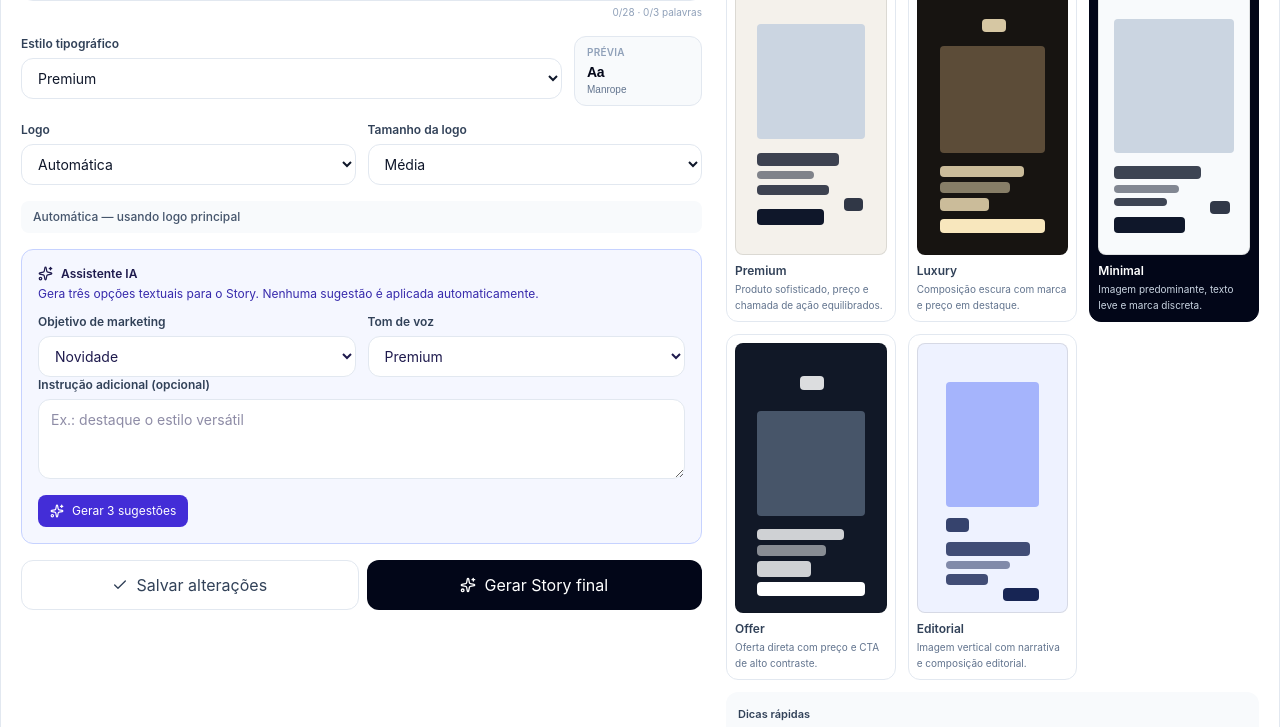
Test case: StoryComposer › applies a selected AI suggestion locally and invalidates the prior rendered preview
The image size is (1280, 727).
(page scrolled)
Click the button "Gerar 3 sugestões" at (113, 511), box top-left (38, 495), bottom-right (188, 527)
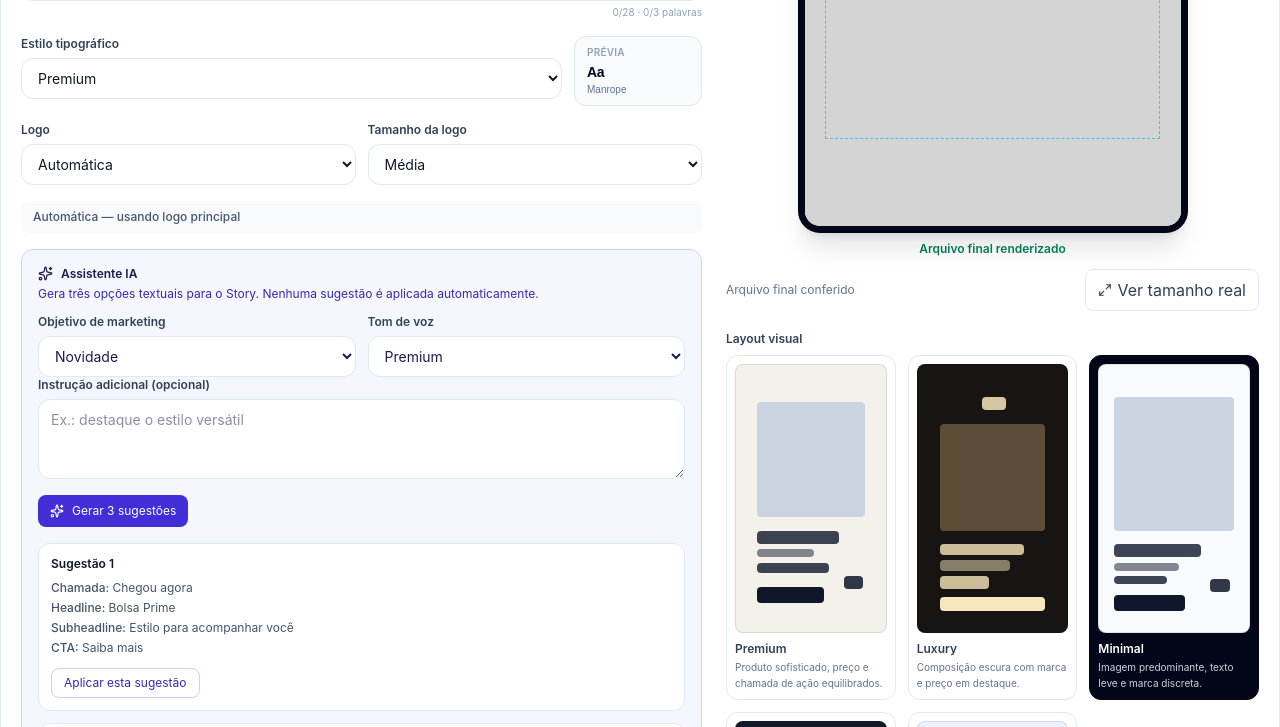
Check: the text "Sugestão 1" is shown, box top-left (51, 556), bottom-right (114, 571)
Click the button "Aplicar esta sugestão" at (125, 683), box top-left (51, 668), bottom-right (200, 698)
(page scrolled)
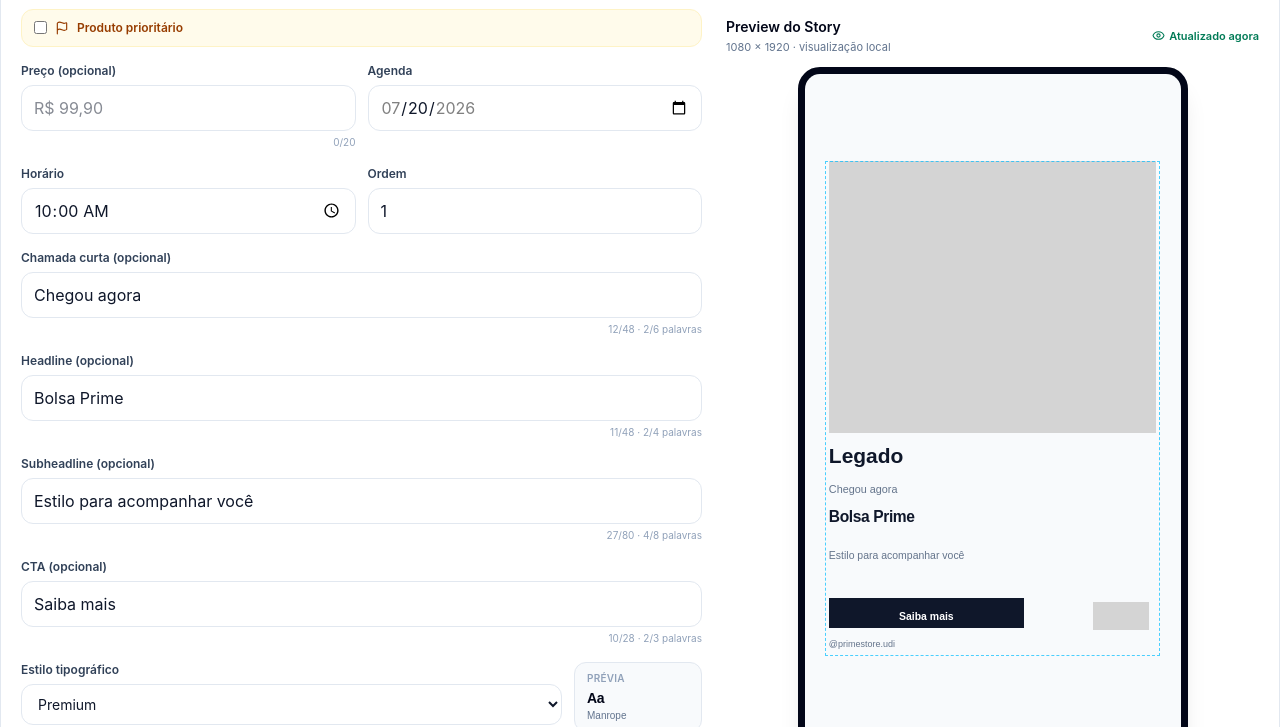
Check: the field labelled "Headline (opcional)" holds "Bolsa Prime", box top-left (21, 375), bottom-right (702, 421)
